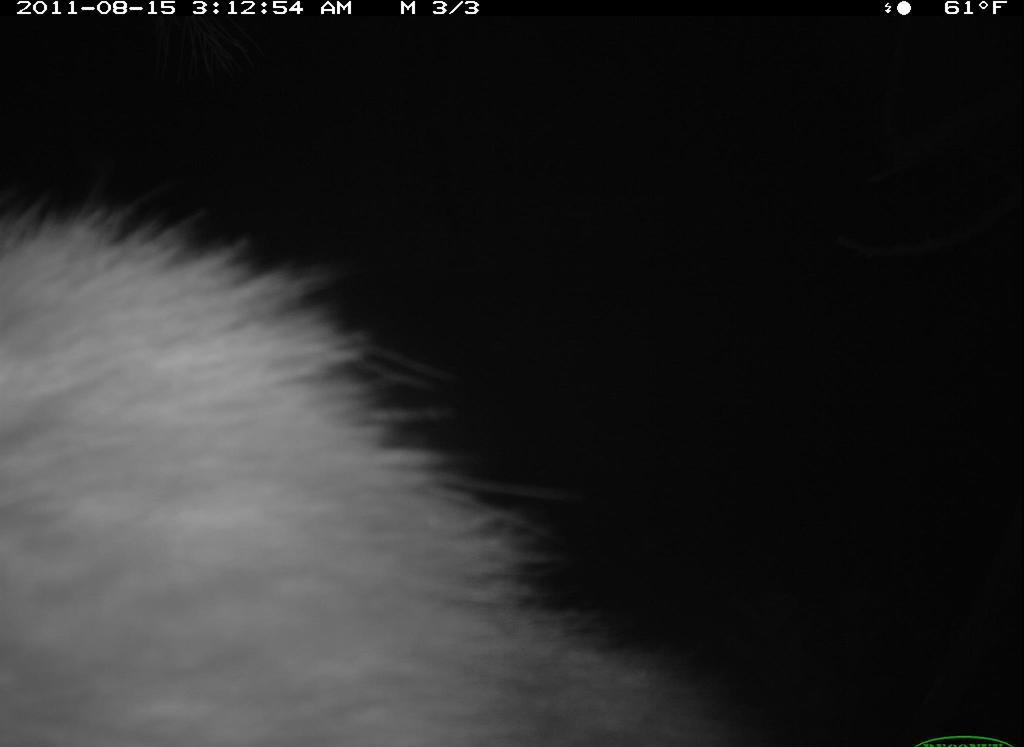raccoon: (2, 176, 751, 743)
